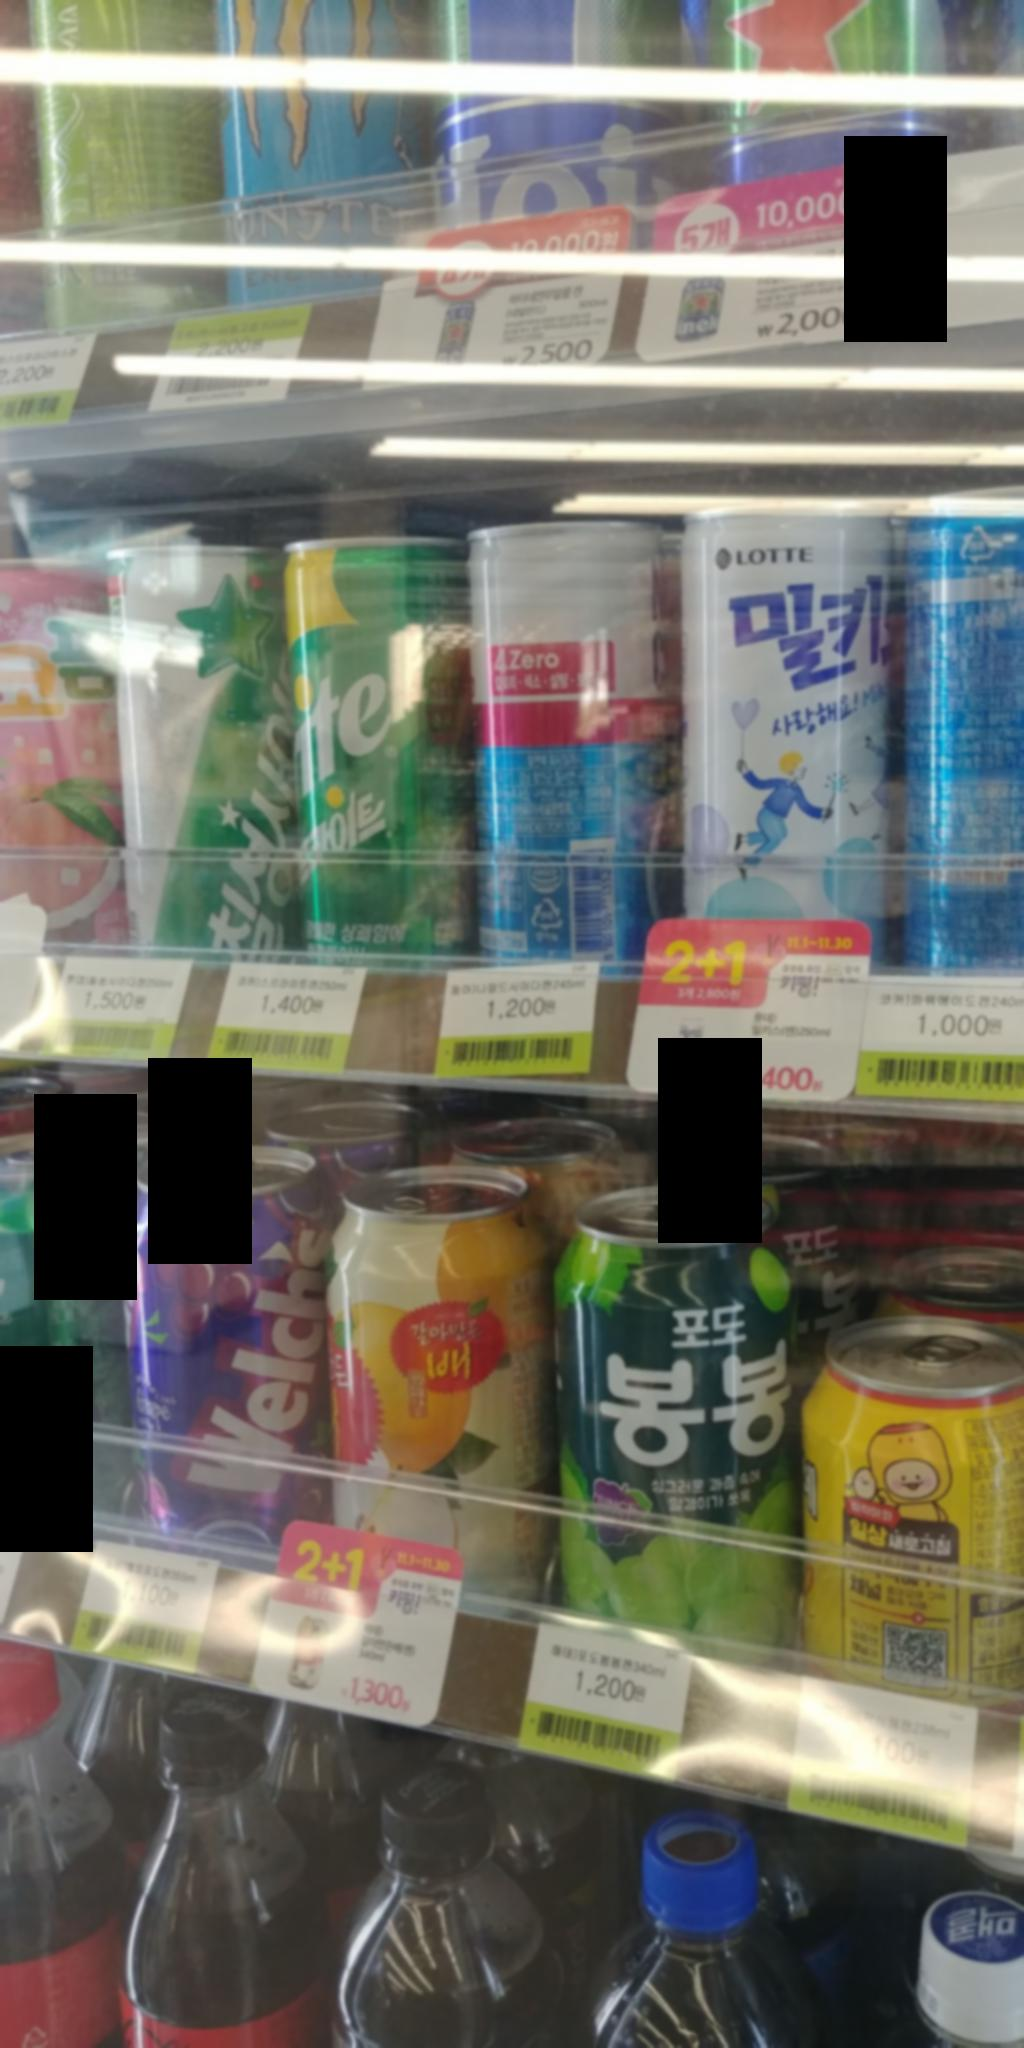narangdcider: (457, 487, 691, 964)
welchs_grape: (97, 1139, 362, 1556)
